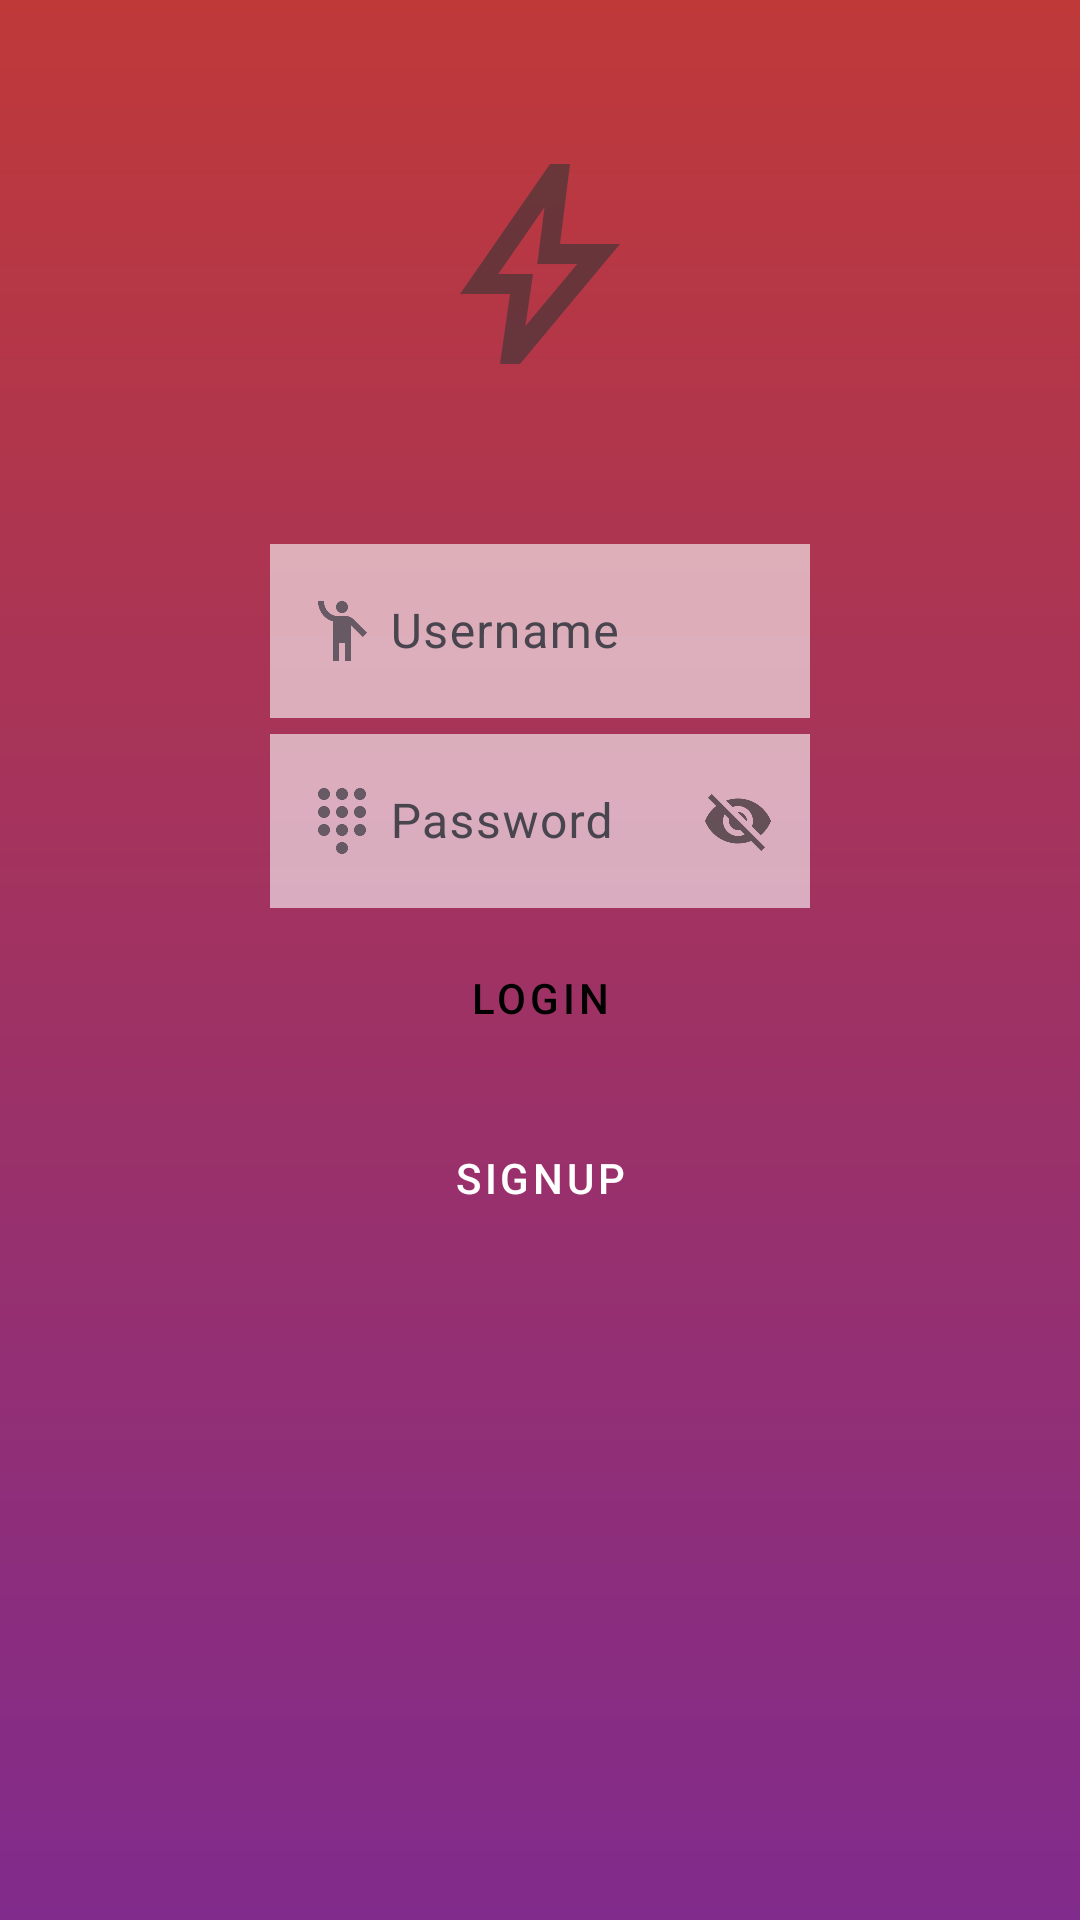

Icons on this 1080×1920 Android screen, each with the point to tap as point (x, y):
thunder: point (540, 264)
